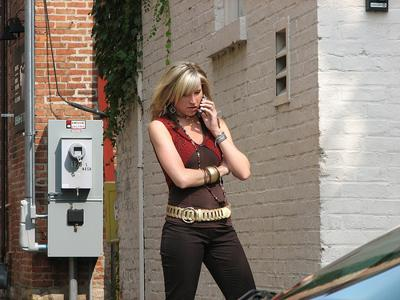person: (146, 62, 262, 299)
